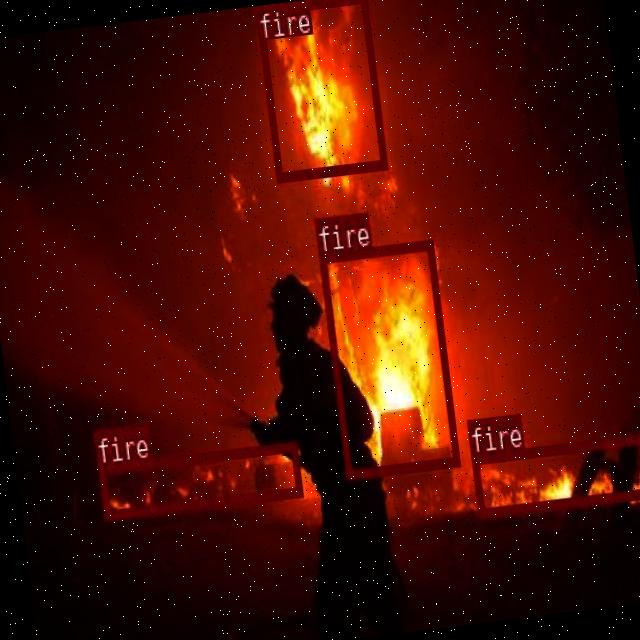fire: (317, 238, 458, 477), (255, 0, 386, 179), (97, 440, 300, 520), (469, 431, 640, 517)
